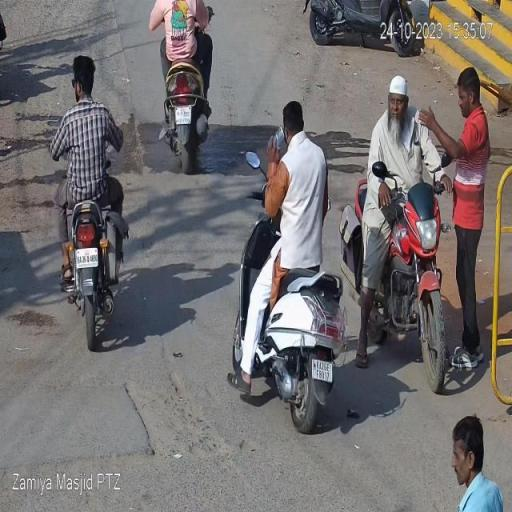using mobile: (264, 125, 286, 158)
